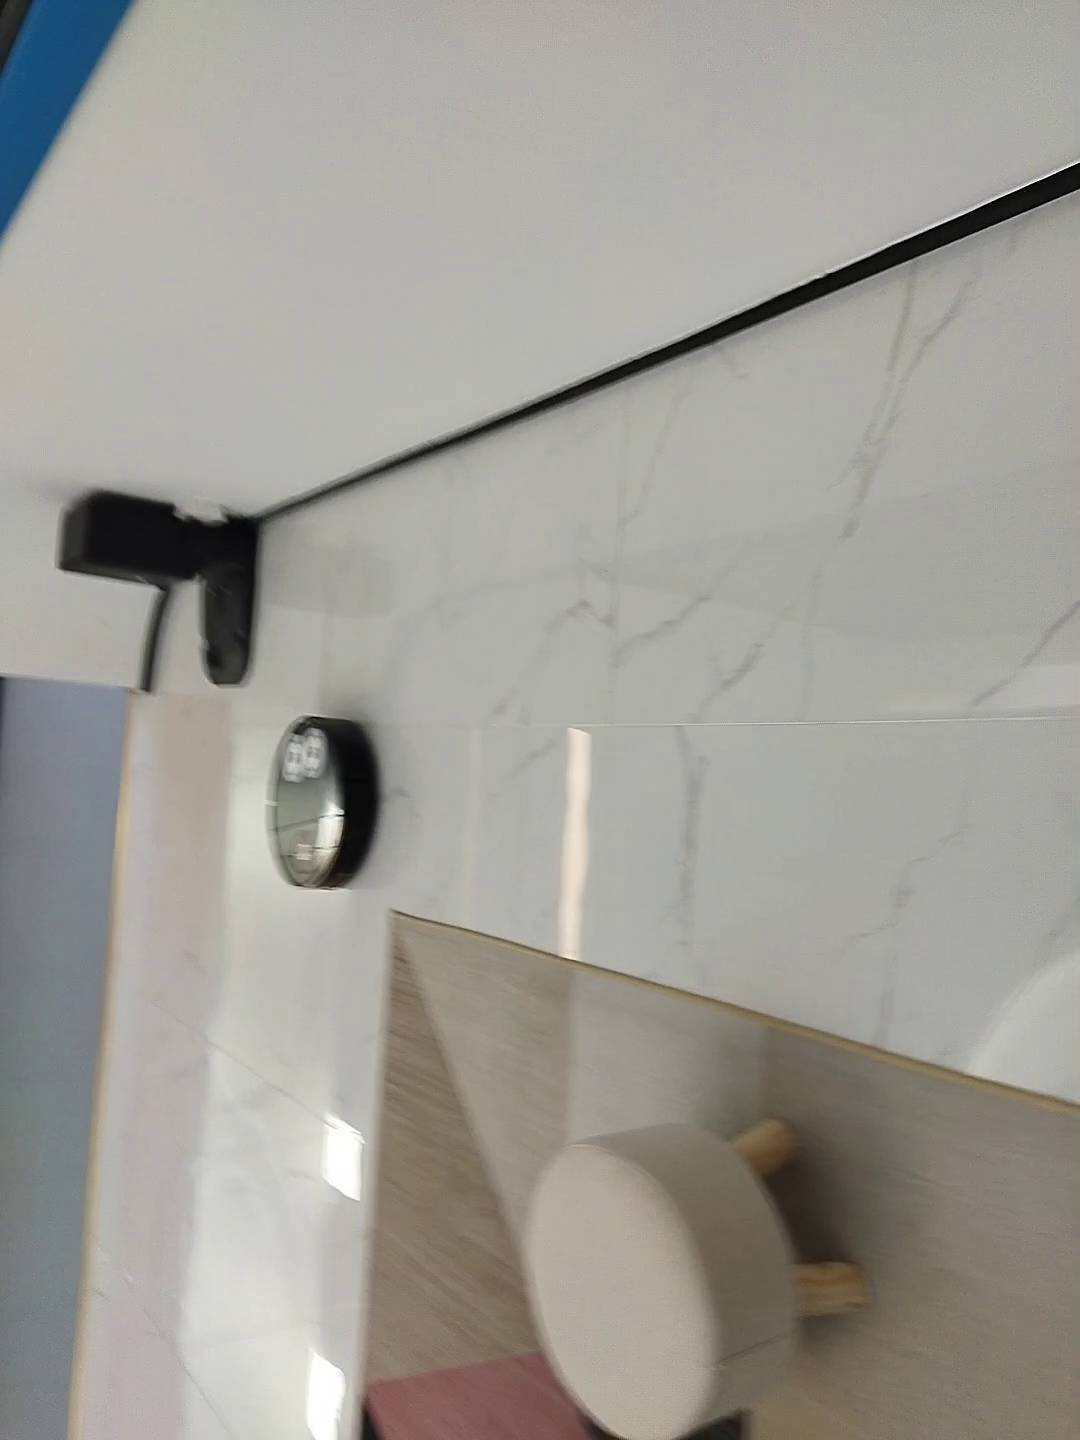dust collecting barrel: (54, 484, 265, 687)
